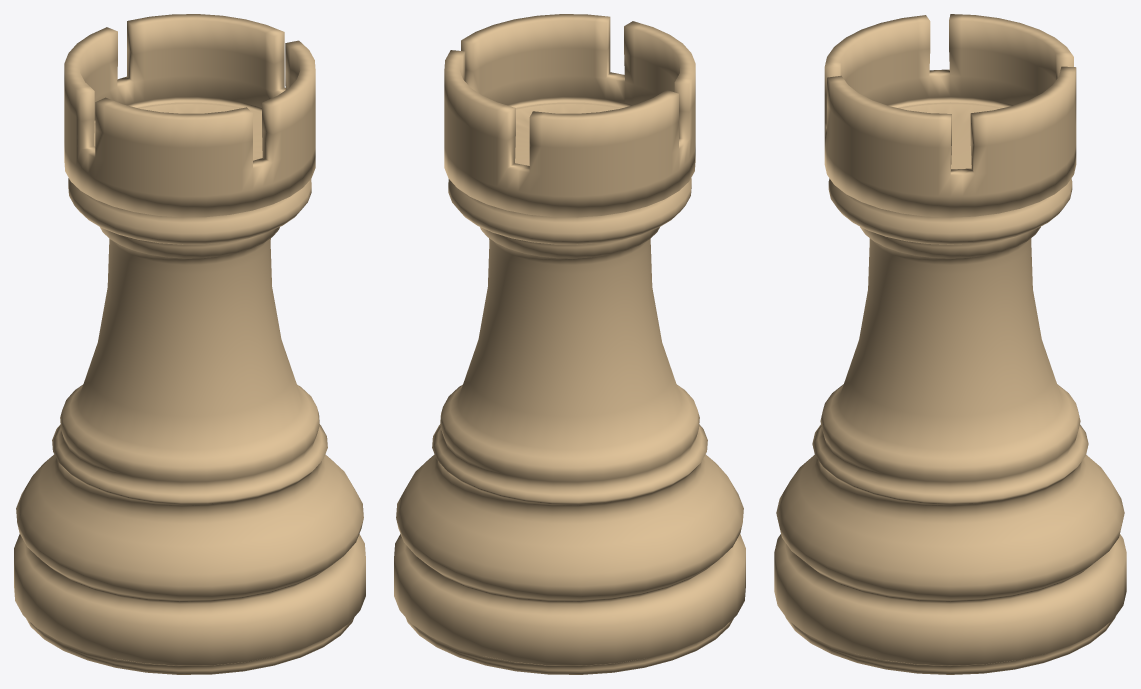
The model's file is Torrea.fbx.
The picture shows the model from 3 angles, left to right: view 1: azimuth 30°, elevation 25°; view 2: azimuth 150°, elevation 25°; view 3: azimuth 270°, elevation 25°; orthographic projection.
Visible parts, largest first — view 1: Torre.001; view 2: Torre.001; view 3: Torre.001.
Boxes of the visible parts, bbox=[...] form: Torre.001: bbox=[14, 14, 365, 674]; Torre.001: bbox=[394, 14, 745, 674]; Torre.001: bbox=[774, 14, 1126, 674].
Size of the model in its own units: 68.6 by 115 by 68.6.
